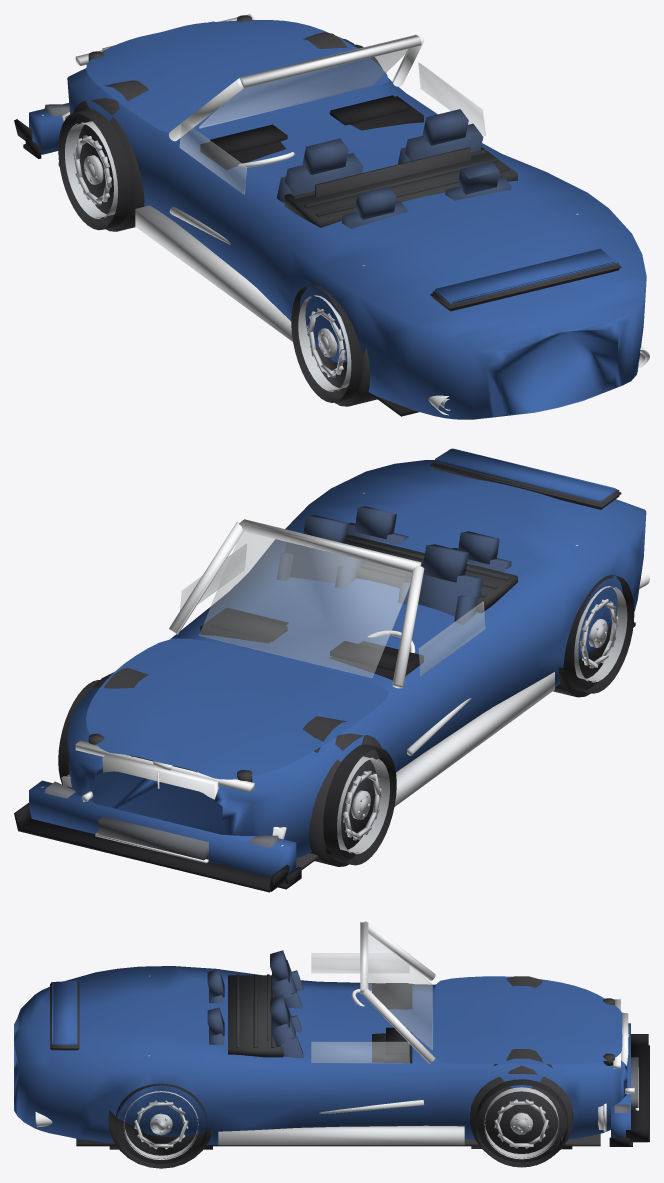
Rendered from Car_Bentley_Continental_GT_Speed_Phase1.glb.
3 renders of one model, top to bottom at view 1: azimuth 30°, elevation 25°; view 2: azimuth 150°, elevation 25°; view 3: azimuth 270°, elevation 25°, orthographic. The views are drawn at different scales.
Visible parts, largest first — view 1: GEO_BENTLEY_Monocoque_Body_Shell, GEO_BENTLEY_Bonnet_Sculpture, GEO_BENTLEY_Windshield_Acoustic_Glass, GEO_BENTLEY_GrandTourer_Leather_Seats, GEO_BENTLEY_Pirelli_PZero_Tires, GEO_BENTLEY_Reinforced_Aluminum_Side_Sills, GEO_BENTLEY_Folded_Tweed_SoftTop_Tonneau, GEO_BENTLEY_FlyingWing_Dashboard_Fascia, GEO_BENTLEY_Wheelhouse_Inner_Tubs, GEO_BENTLEY_22in_Speed_Barrels, GEO_BENTLEY_Windshield_Header_Frame, GEO_BENTLEY_Active_Deployable_Spoiler_Blade (+5 smaller); view 2: GEO_BENTLEY_Monocoque_Body_Shell, GEO_BENTLEY_Bonnet_Sculpture, GEO_BENTLEY_Windshield_Acoustic_Glass, GEO_BENTLEY_GrandTourer_Leather_Seats, GEO_BENTLEY_Front_Bumper_Valance, GEO_BENTLEY_Pirelli_PZero_Tires, GEO_BENTLEY_Windshield_Header_Frame, GEO_BENTLEY_Reinforced_Aluminum_Side_Sills, GEO_BENTLEY_Front_Aero_Splitter_Winglets, GEO_BENTLEY_Wheelhouse_Inner_Tubs, GEO_BENTLEY_FlyingWing_Dashboard_Fascia, GEO_BENTLEY_22in_Speed_Barrels (+8 smaller); view 3: GEO_BENTLEY_Monocoque_Body_Shell, GEO_BENTLEY_Bonnet_Sculpture, GEO_BENTLEY_Wheelhouse_Inner_Tubs, GEO_BENTLEY_Windshield_Acoustic_Glass, GEO_BENTLEY_Reinforced_Aluminum_Side_Sills, GEO_BENTLEY_GrandTourer_Leather_Seats, GEO_BENTLEY_Folded_Tweed_SoftTop_Tonneau, GEO_BENTLEY_22in_Speed_Barrels, GEO_BENTLEY_Windshield_Header_Frame, GEO_BENTLEY_FlyingWing_Dashboard_Fascia, GEO_BENTLEY_Pirelli_PZero_Tires, GEO_BENTLEY_Front_Aero_Splitter_Winglets (+7 smaller).
Part boxes in pixels (box(x1,y1,x2,y2)): GEO_BENTLEY_Monocoque_Body_Shell: box(67, 36, 646, 419); GEO_BENTLEY_Bonnet_Sculpture: box(86, 20, 388, 132); GEO_BENTLEY_Windshield_Acoustic_Glass: box(179, 48, 485, 194); GEO_BENTLEY_GrandTourer_Leather_Seats: box(276, 109, 511, 228); GEO_BENTLEY_Pirelli_PZero_Tires: box(58, 44, 382, 402); GEO_BENTLEY_Reinforced_Aluminum_Side_Sills: box(135, 205, 292, 341); GEO_BENTLEY_Folded_Tweed_SoftTop_Tonneau: box(284, 147, 517, 227); GEO_BENTLEY_FlyingWing_Dashboard_Fascia: box(200, 95, 423, 169); GEO_BENTLEY_Wheelhouse_Inner_Tubs: box(73, 39, 377, 406); GEO_BENTLEY_22in_Speed_Barrels: box(65, 121, 351, 391); GEO_BENTLEY_Windshield_Header_Frame: box(169, 34, 424, 141); GEO_BENTLEY_Active_Deployable_Spoiler_Blade: box(434, 248, 616, 303); GEO_BENTLEY_Monocoque_Body_Shell: box(67, 460, 646, 858); GEO_BENTLEY_Bonnet_Sculpture: box(86, 638, 388, 779); GEO_BENTLEY_Windshield_Acoustic_Glass: box(180, 531, 485, 677); GEO_BENTLEY_GrandTourer_Leather_Seats: box(276, 506, 511, 624); GEO_BENTLEY_Front_Bumper_Valance: box(29, 780, 296, 883); GEO_BENTLEY_Pirelli_PZero_Tires: box(58, 575, 634, 865); GEO_BENTLEY_Windshield_Header_Frame: box(169, 519, 424, 688); GEO_BENTLEY_Reinforced_Aluminum_Side_Sills: box(394, 672, 554, 806); GEO_BENTLEY_Front_Aero_Splitter_Winglets: box(14, 803, 332, 892); GEO_BENTLEY_Wheelhouse_Inner_Tubs: box(68, 615, 616, 866); GEO_BENTLEY_FlyingWing_Dashboard_Fascia: box(200, 607, 423, 680); GEO_BENTLEY_22in_Speed_Barrels: box(337, 586, 627, 854); GEO_BENTLEY_Monocoque_Body_Shell: box(14, 966, 627, 1145); GEO_BENTLEY_Bonnet_Sculpture: box(435, 976, 622, 1064); GEO_BENTLEY_Wheelhouse_Inner_Tubs: box(108, 1065, 573, 1168); GEO_BENTLEY_Windshield_Acoustic_Glass: box(311, 930, 432, 1063); GEO_BENTLEY_Reinforced_Aluminum_Side_Sills: box(218, 1100, 464, 1145); GEO_BENTLEY_GrandTourer_Leather_Seats: box(207, 950, 303, 1058); GEO_BENTLEY_Folded_Tweed_SoftTop_Tonneau: box(228, 974, 283, 1057); GEO_BENTLEY_22in_Speed_Barrels: box(123, 1087, 559, 1159); GEO_BENTLEY_Windshield_Header_Frame: box(360, 921, 435, 1063); GEO_BENTLEY_FlyingWing_Dashboard_Fascia: box(372, 983, 412, 1063); GEO_BENTLEY_Pirelli_PZero_Tires: box(115, 1079, 567, 1168); GEO_BENTLEY_Front_Aero_Splitter_Winglets: box(560, 1034, 649, 1145).
Size of what is drawn, in the model's own units: 1.98 by 1.44 by 5.03.
